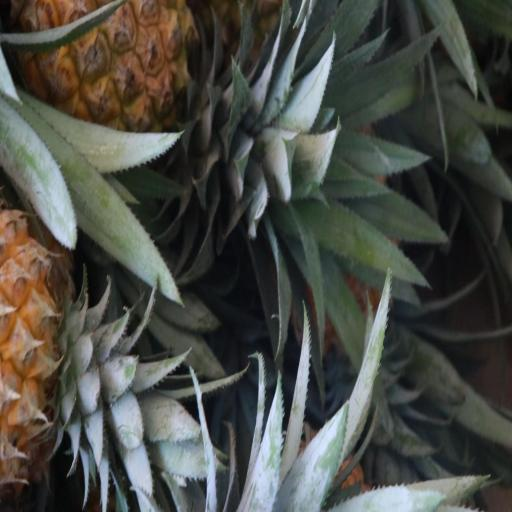Pineapple - v8 v1: (20, 0, 222, 144)
